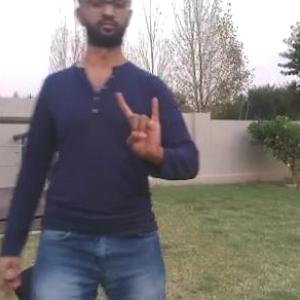takeoff-hand: (113, 84, 169, 168)
